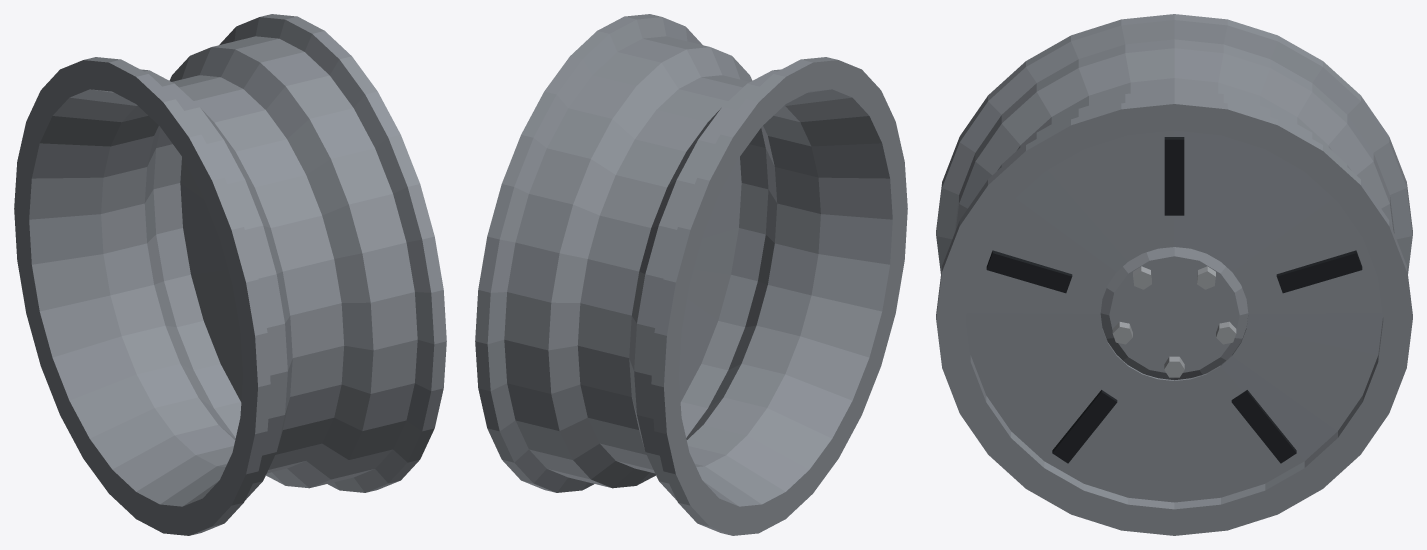
File: rim_aerodisc_16.glb
3 renders of one model, left to right at view 1: azimuth 30°, elevation 25°; view 2: azimuth 150°, elevation 25°; view 3: azimuth 270°, elevation 25°, orthographic. The views are drawn at different scales.
Parts seen in each view (by area): view 1: model; view 2: model; view 3: model.
Boxes of the visible parts, x1,y1,x2,y2 form: model: (14,14,446,535); model: (475,14,907,535); model: (936,14,1412,535).
Bounding box in the file's own units: 0.1968 × 0.4384 × 0.4384.
Materials: 3 (1 with a texture image).
